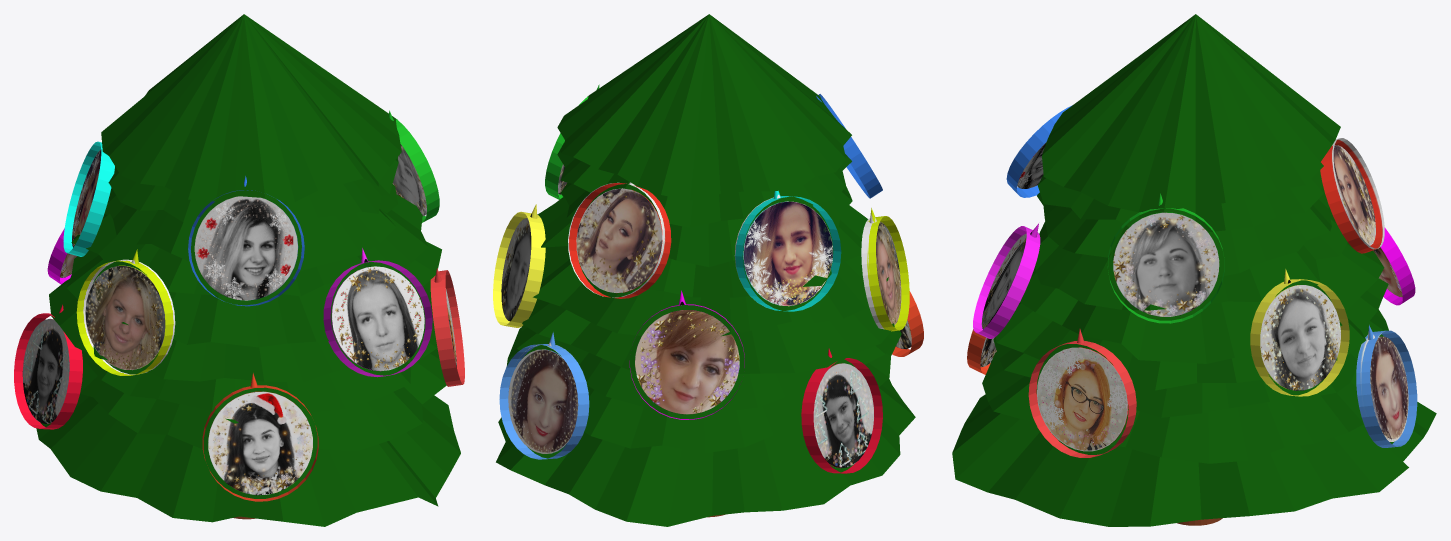
The model's file is tree_v2.gltf.
The picture shows the model from 3 angles, left to right: view 1: azimuth 30°, elevation 25°; view 2: azimuth 150°, elevation 25°; view 3: azimuth 270°, elevation 25°; orthographic projection.
Visible parts, largest first — view 1: Cube, Cylinder.009, Cylinder.011, Cylinder.008, Cylinder.007, Cylinder.006, Cylinder.005, Cylinder.010, Cylinder.001, Cylinder.004; view 2: Cube, Cylinder.005, Cylinder.003, Cylinder.004, Cylinder.002, Cylinder.006, Cylinder, Cylinder.007, Cylinder.008, Cylinder.011, Cylinder.001; view 3: Cube, Cylinder.010, Cylinder.001, Cylinder, Cylinder.002, Cylinder.003, Cylinder.009, Cylinder.008, Cylinder.004, Cylinder.011.
Part boxes in pixels (x1,y1,x2,y2): Cube: [36, 14, 460, 526]; Cylinder.009: [323, 248, 432, 377]; Cylinder.011: [202, 373, 318, 501]; Cylinder.008: [188, 176, 304, 306]; Cylinder.007: [76, 249, 175, 375]; Cylinder.006: [14, 304, 82, 429]; Cylinder.005: [63, 141, 114, 256]; Cylinder.010: [430, 268, 464, 386]; Cylinder.001: [388, 110, 439, 222]; Cylinder.004: [47, 228, 76, 284]; Cube: [496, 14, 915, 526]; Cylinder.005: [734, 190, 841, 311]; Cylinder.003: [568, 182, 671, 298]; Cylinder.004: [629, 290, 744, 419]; Cylinder.002: [499, 332, 589, 459]; Cylinder.006: [801, 348, 882, 473]; Cylinder: [493, 204, 545, 327]; Cylinder.007: [861, 208, 909, 331]; Cylinder.008: [816, 94, 882, 198]; Cylinder.011: [892, 291, 923, 356]; Cylinder.001: [545, 84, 599, 199]; Cube: [952, 14, 1436, 526]; Cylinder.010: [1028, 328, 1136, 457]; Cylinder.001: [1107, 193, 1224, 323]; Cylinder: [1250, 269, 1349, 396]; Cylinder.002: [1356, 325, 1417, 447]; Cylinder.003: [1320, 138, 1384, 253]; Cylinder.009: [973, 223, 1040, 338]; Cylinder.008: [1006, 105, 1072, 197]; Cylinder.004: [1373, 227, 1415, 305]; Cylinder.011: [967, 329, 996, 374].
Bounding box in the file's own units: 24.95 × 32 × 28.24.
Materials: 14 (12 with a texture image).
